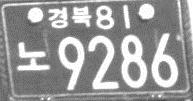1: (120, 3, 131, 29)
2: (86, 34, 119, 91)
6: (150, 32, 179, 88)
8: (119, 32, 148, 88), (95, 4, 115, 30)
9: (56, 35, 86, 91)
경북_O: (46, 4, 93, 29)
노: (16, 40, 50, 73)
